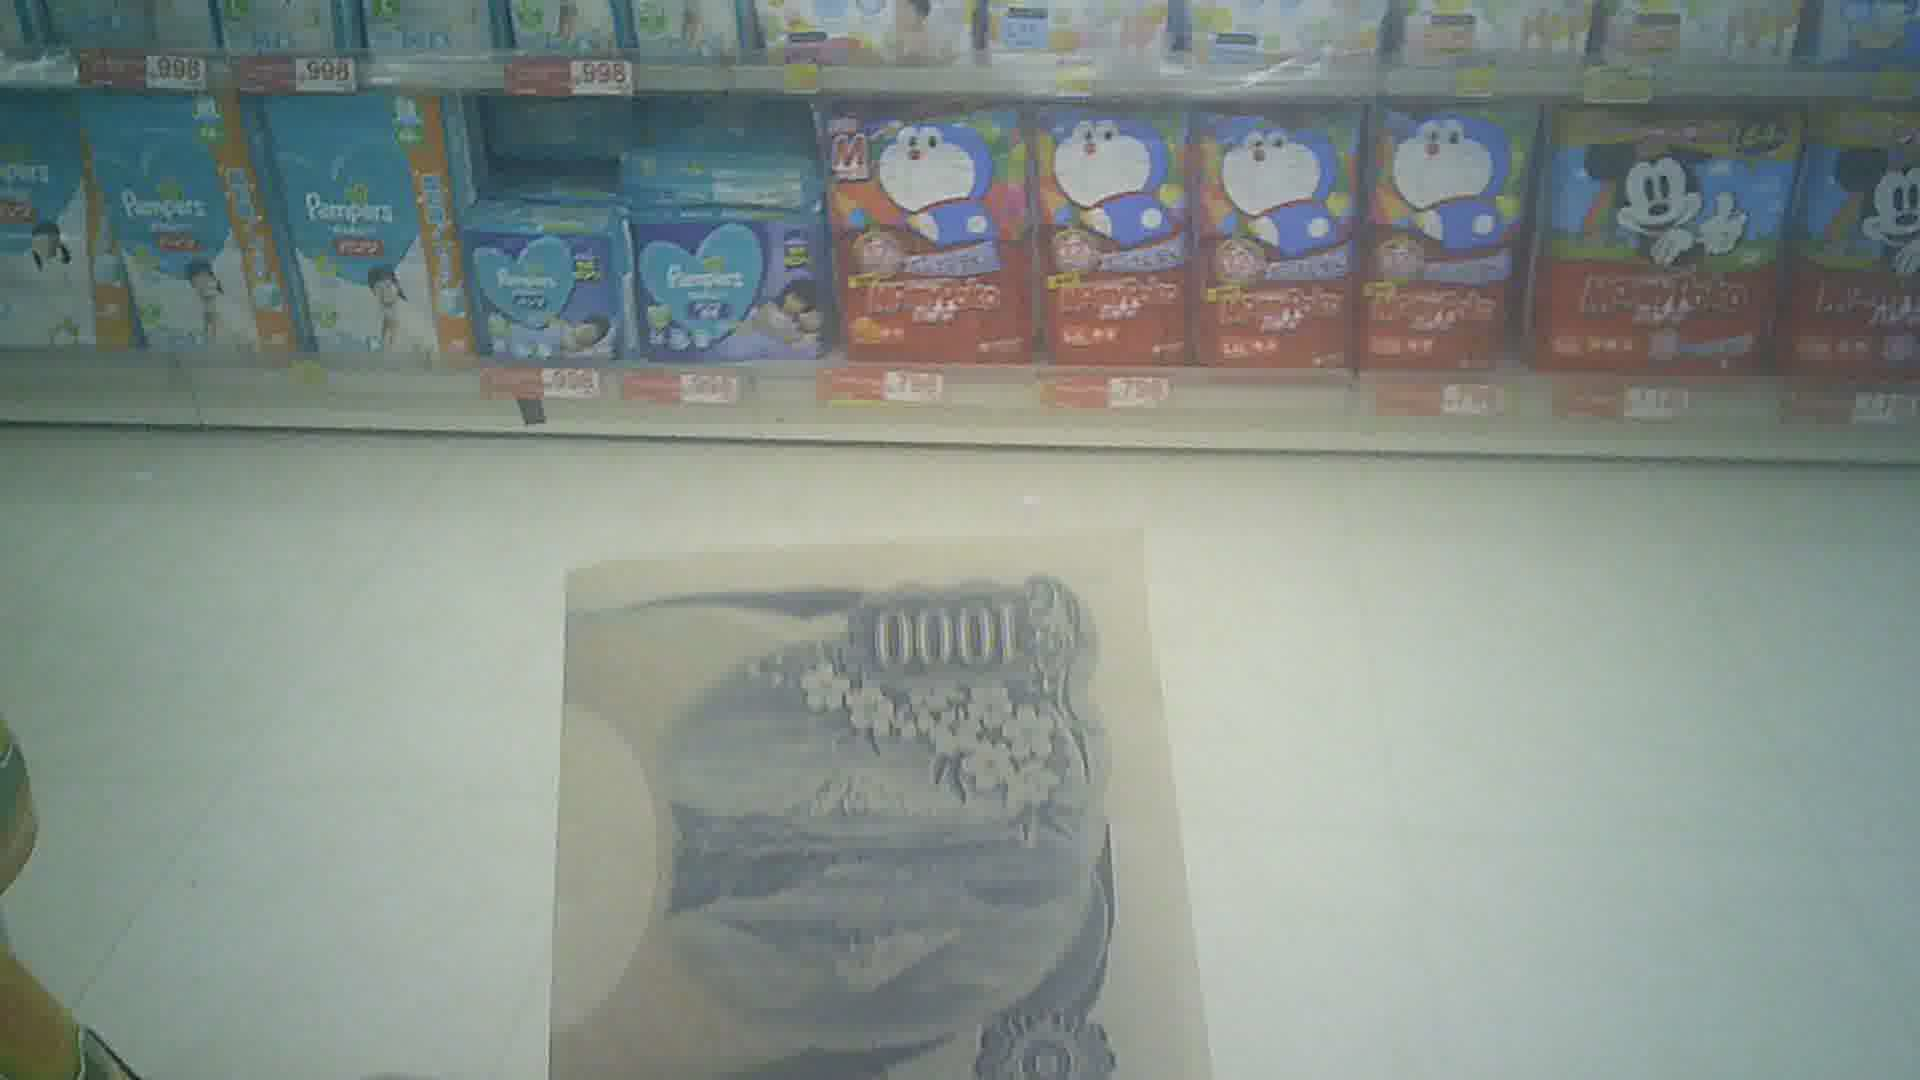1,000 Yen: (553, 535, 1185, 1079)
